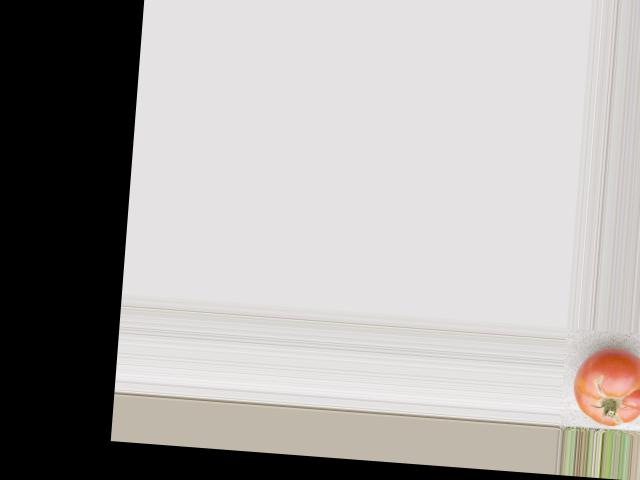tomato: (569, 346, 640, 428)
